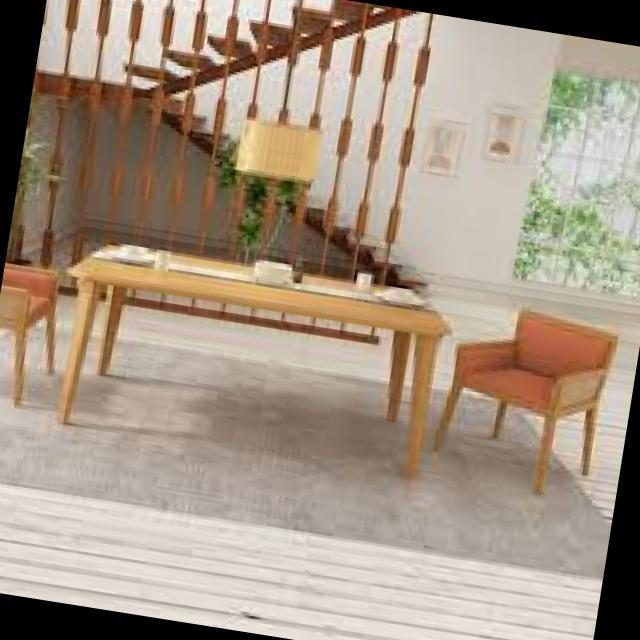obstacle: (433, 262, 640, 497)
